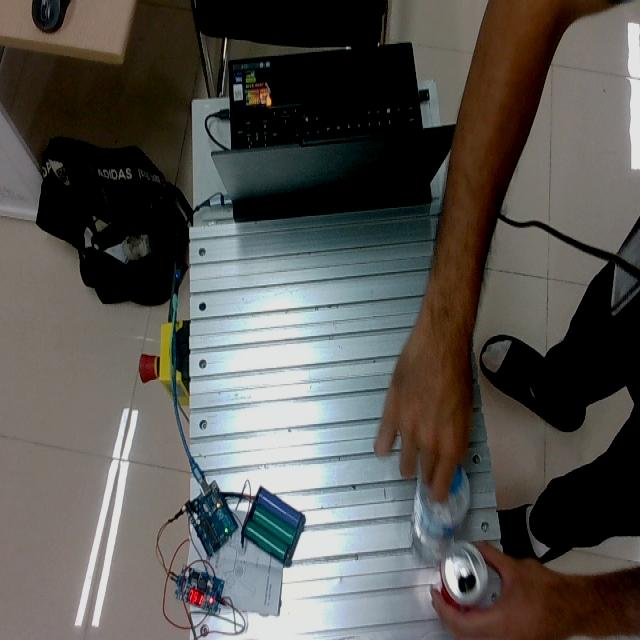coca: (438, 542, 491, 610)
lavie: (412, 463, 470, 540)
